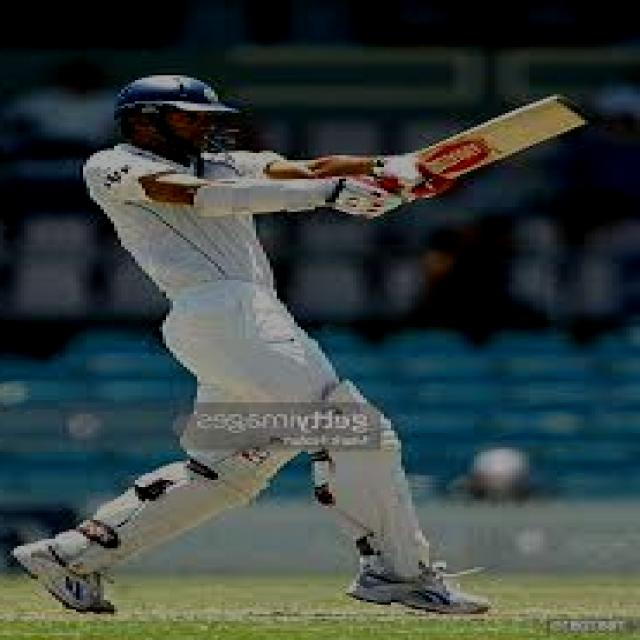toe: (544, 86, 593, 129)
